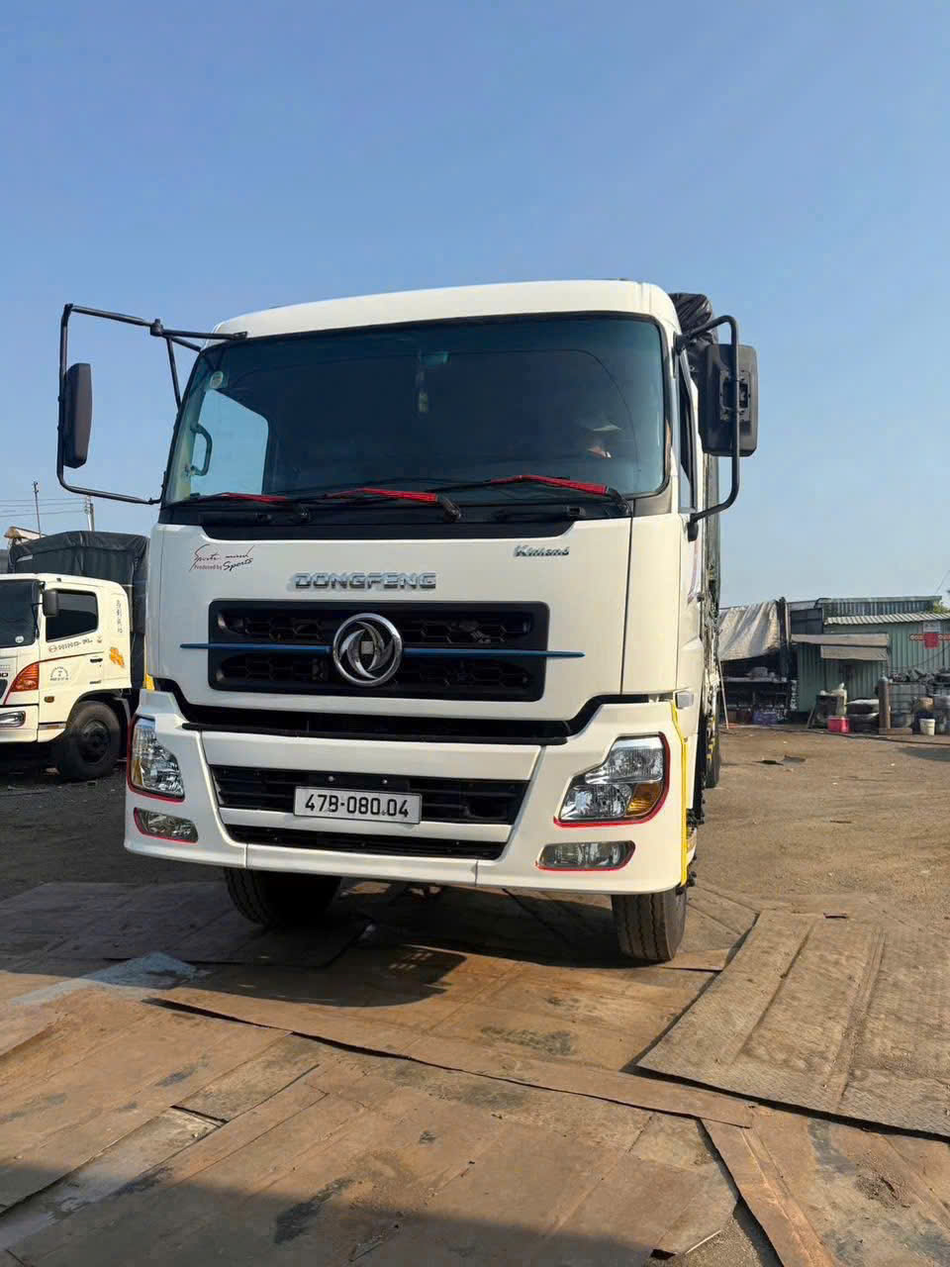Bien-so: (294, 782, 427, 828)
